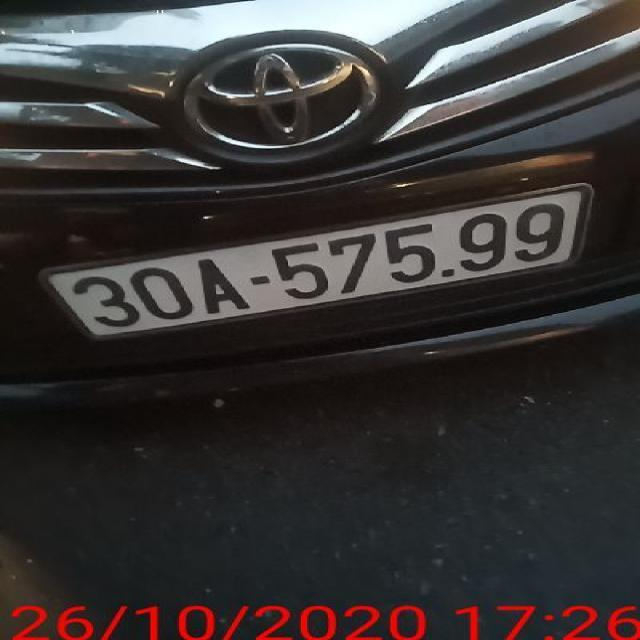bien_so_oto: (34, 178, 596, 346)
